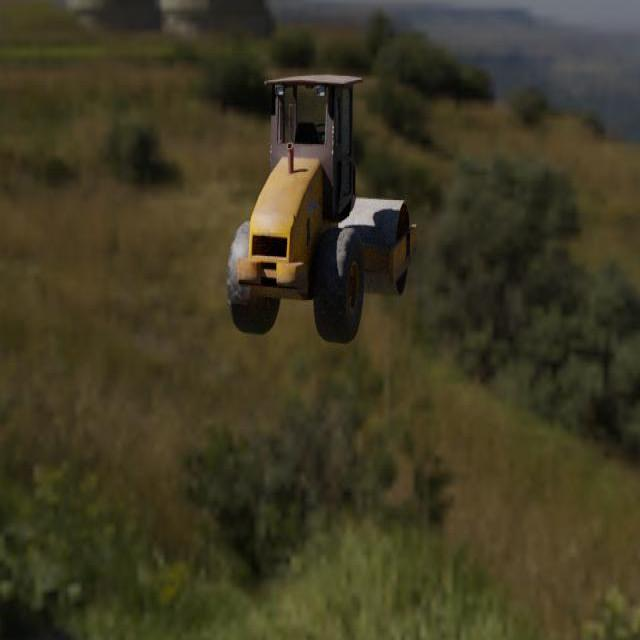Roller: (226, 73, 417, 344)
